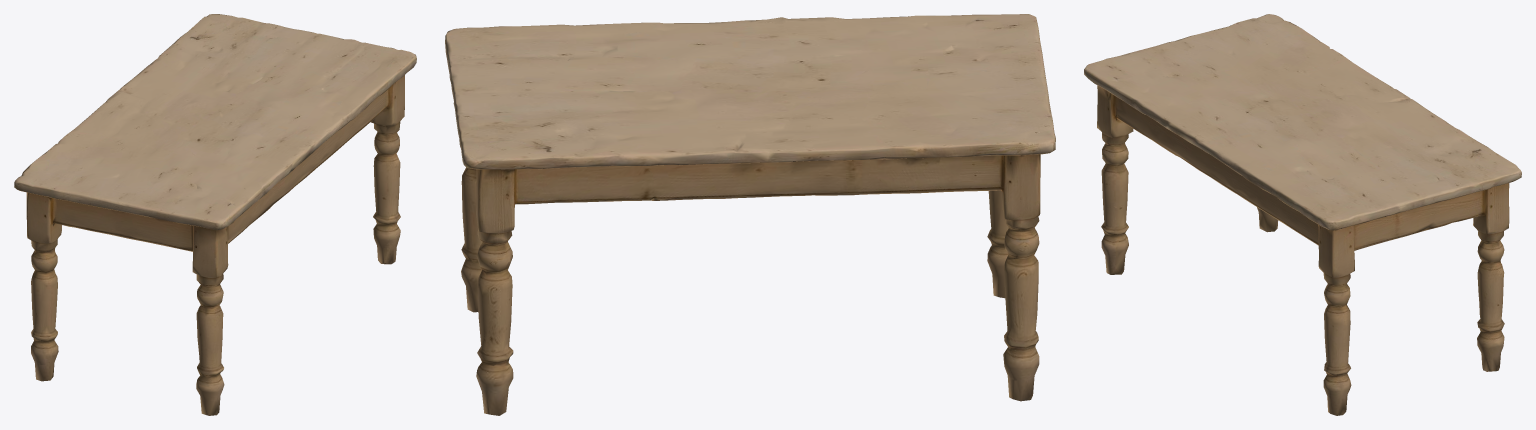
Rendered from k_table.glb.
3 renders of one model, left to right at view 1: azimuth 30°, elevation 25°; view 2: azimuth 150°, elevation 25°; view 3: azimuth 270°, elevation 25°, orthographic. The views are drawn at different scales.
Visible parts, largest first — view 1: tripo_node_f664dcf7-761b-4c05-a0d5-5cb907b1816e; view 2: tripo_node_f664dcf7-761b-4c05-a0d5-5cb907b1816e; view 3: tripo_node_f664dcf7-761b-4c05-a0d5-5cb907b1816e.
Boxes of the visible parts, x1,y1,x2,y2 form: tripo_node_f664dcf7-761b-4c05-a0d5-5cb907b1816e: (14, 14, 416, 415); tripo_node_f664dcf7-761b-4c05-a0d5-5cb907b1816e: (445, 14, 1055, 415); tripo_node_f664dcf7-761b-4c05-a0d5-5cb907b1816e: (1084, 14, 1521, 415).
Bounding box in the file's own units: 1.1 × 0.5024 × 0.9718.
1 material, 1 textured.
